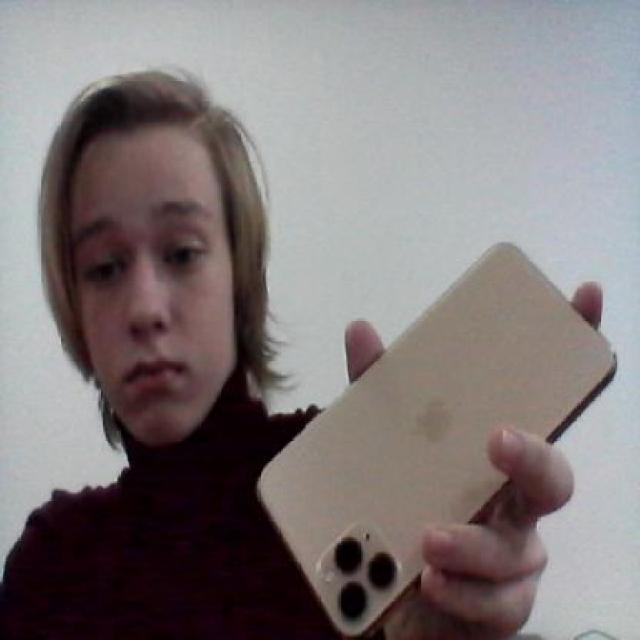lens: (320, 527, 405, 624)
phone: (251, 238, 620, 638)
